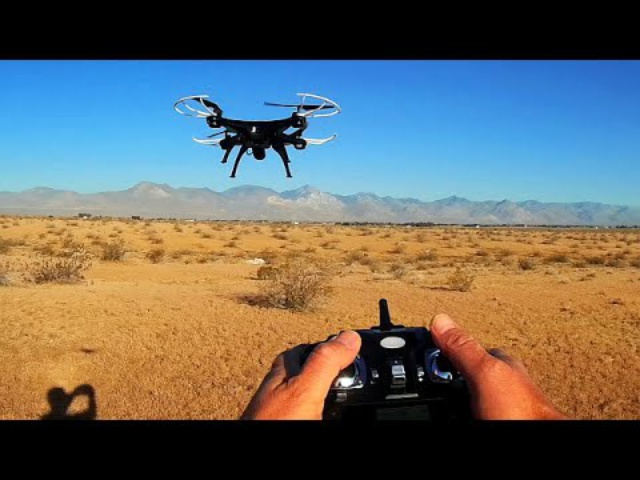drone: (170, 86, 348, 184)
